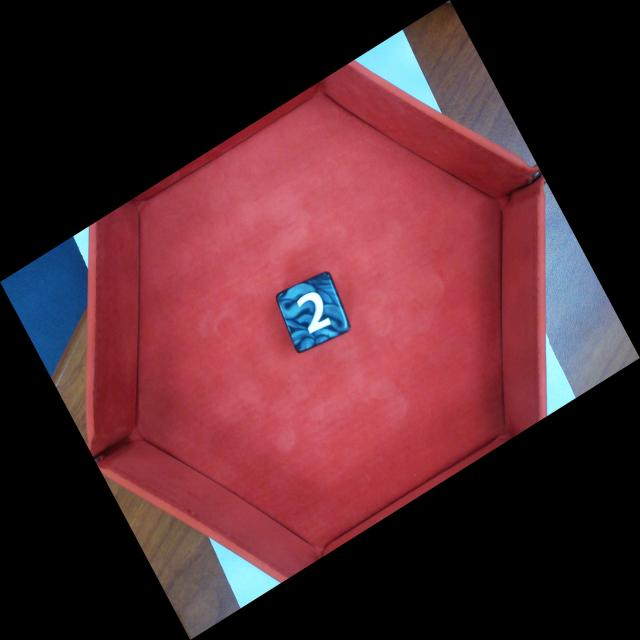dice: (280, 275, 349, 350)
